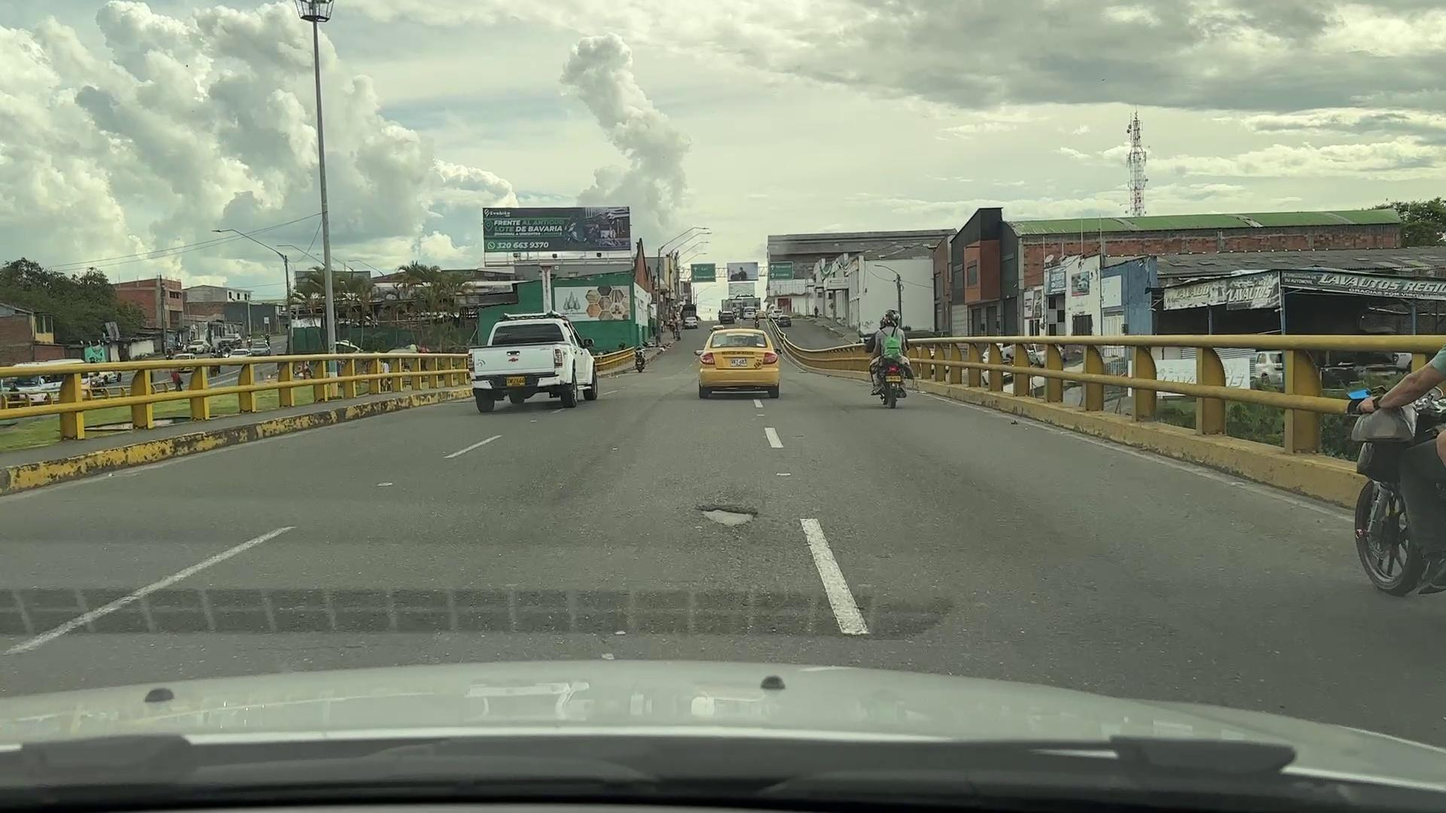bache: (701, 508, 755, 526)
